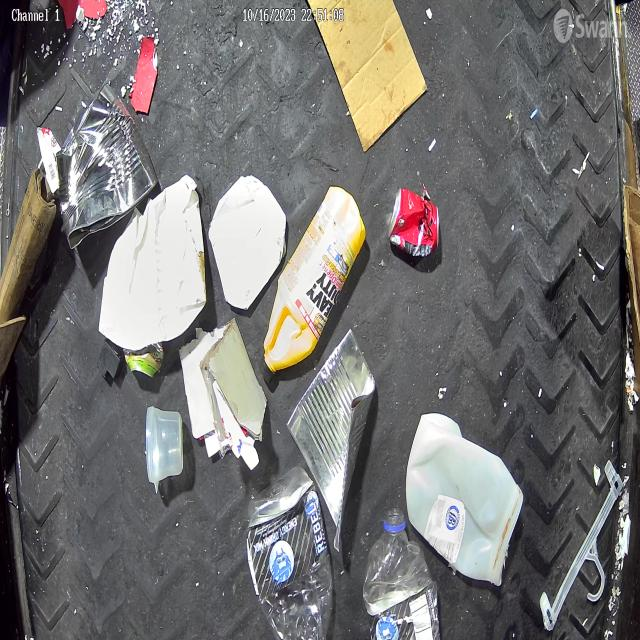can: (55, 80, 159, 248), (391, 184, 443, 260), (128, 346, 164, 376)
milk_jug: (406, 414, 524, 588)
non_white_jug: (258, 182, 362, 382)
plastic_bottle: (246, 464, 334, 640), (363, 508, 440, 640)
